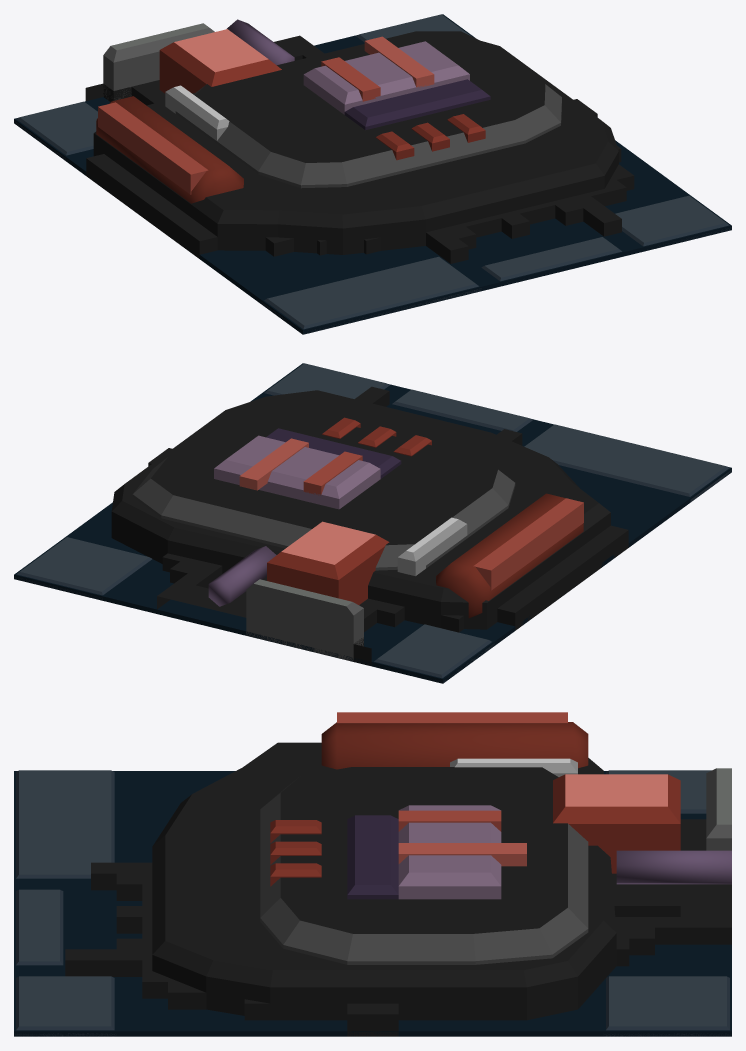
Rendered from newshu-79.glb.
3 views of the same model, one above another, from view 1: azimuth 30°, elevation 25°; view 2: azimuth 150°, elevation 25°; view 3: azimuth 270°, elevation 25° (orthographic). The views are drawn at different scales.
Visible parts, largest first — view 1: newshu-79; view 2: newshu-79; view 3: newshu-79.
Boxes of the visible parts, box(x1,y1,x2,y2) form: newshu-79: box(14, 14, 731, 334); newshu-79: box(14, 363, 731, 683); newshu-79: box(14, 712, 731, 1036).
Bounding box in the file's own units: 2 × 0.345 × 2.33.
